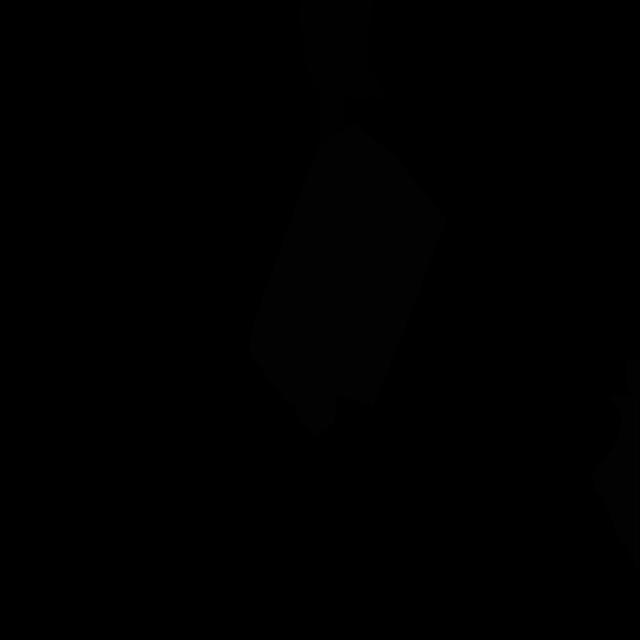cardboard: (249, 122, 446, 436), (592, 358, 640, 573)
rigid_plastic: (298, 0, 388, 143)
